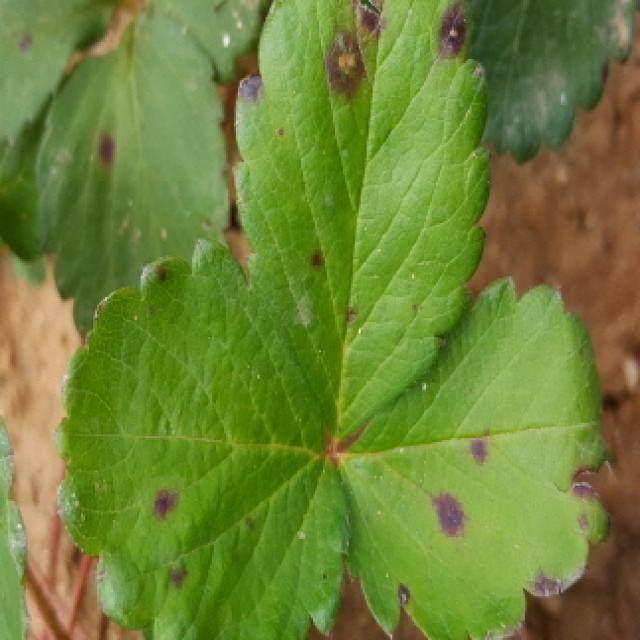Leaf Spot: (53, 235, 350, 640), (231, 0, 495, 447), (335, 275, 619, 640), (36, 14, 228, 338)
